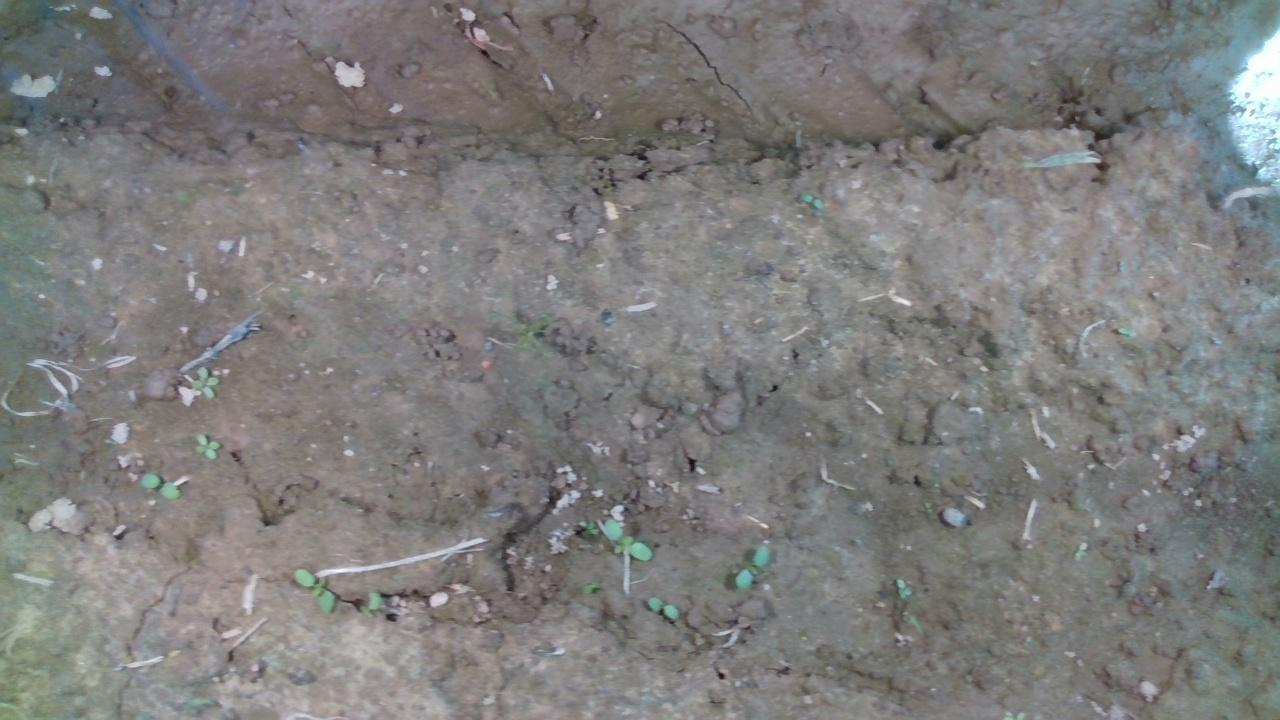weed: (186, 431, 221, 465)
